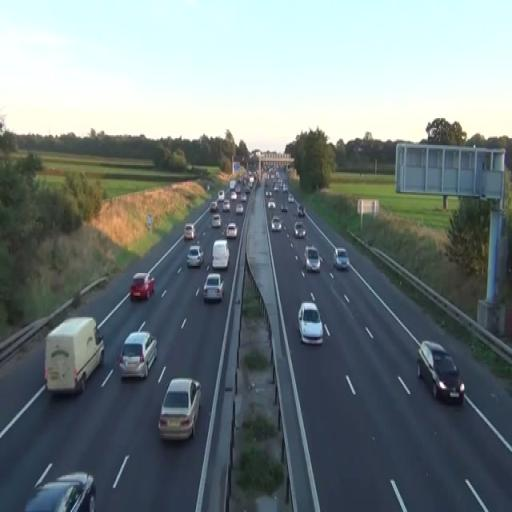Car: (416, 340, 466, 405), (24, 469, 97, 511), (158, 378, 202, 442), (118, 330, 158, 380), (298, 301, 323, 345), (130, 272, 155, 301), (203, 273, 224, 303), (212, 240, 230, 270), (186, 244, 205, 268), (332, 248, 350, 271), (305, 246, 320, 273), (294, 220, 306, 239), (226, 222, 238, 239)
Truck: (44, 316, 105, 395)
